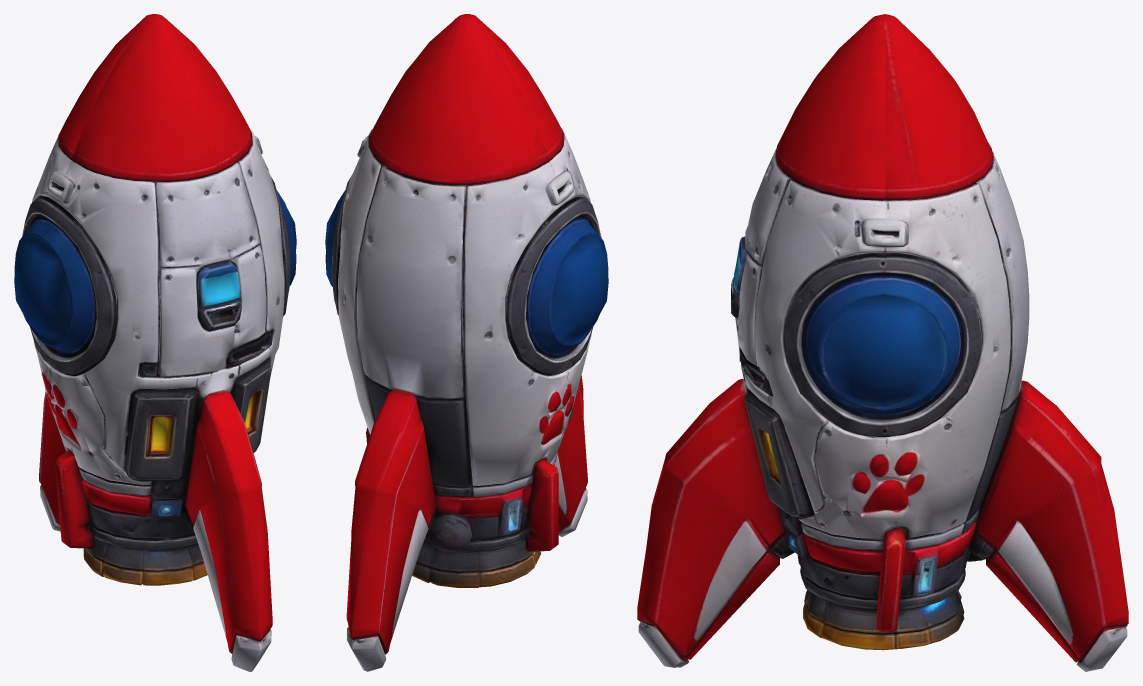
Rendered from rocket.glb.
3 renders of one model, left to right at view 1: azimuth 30°, elevation 25°; view 2: azimuth 150°, elevation 25°; view 3: azimuth 270°, elevation 25°, orthographic. The views are drawn at different scales.
Parts seen in each view (by area): view 1: tripo_node_317470eb-65ff-4d11-8173-7ed30e03737e; view 2: tripo_node_317470eb-65ff-4d11-8173-7ed30e03737e; view 3: tripo_node_317470eb-65ff-4d11-8173-7ed30e03737e.
Boxes of the visible parts, bbox=[...] form: tripo_node_317470eb-65ff-4d11-8173-7ed30e03737e: bbox=[14, 14, 296, 671]; tripo_node_317470eb-65ff-4d11-8173-7ed30e03737e: bbox=[325, 14, 608, 671]; tripo_node_317470eb-65ff-4d11-8173-7ed30e03737e: bbox=[637, 14, 1128, 671].
Size of the model in its own units: 0.4599 by 0.9824 by 0.6673.
Materials: 1 (1 with a texture image).
